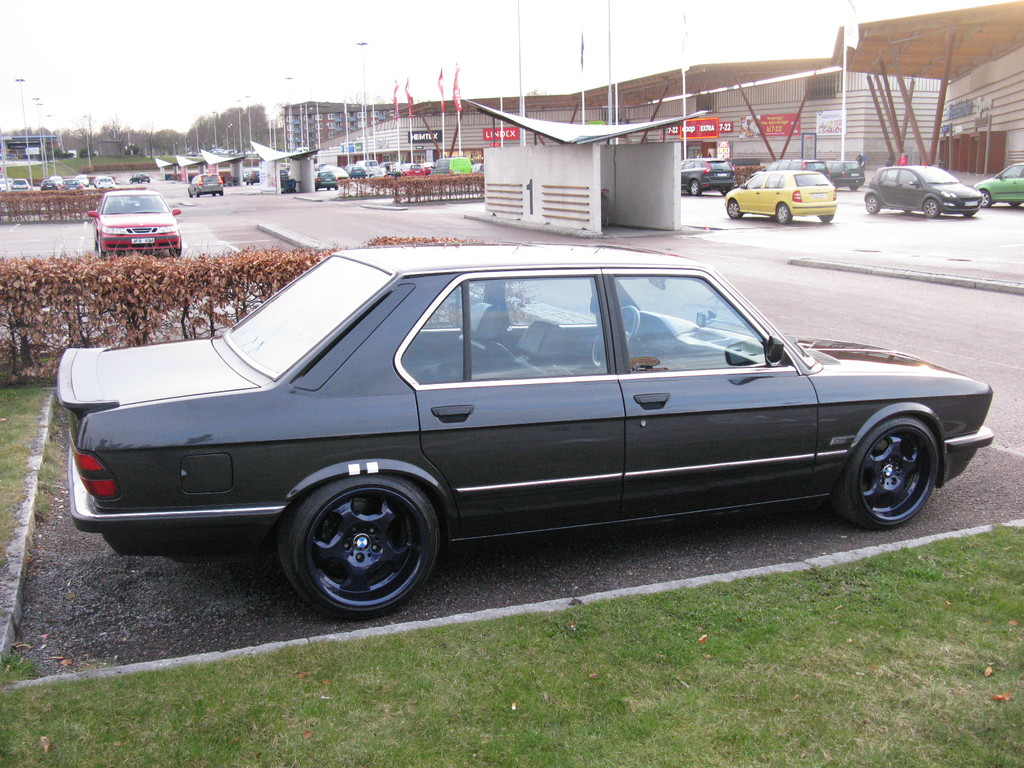Car: (63, 251, 961, 622), (679, 156, 1023, 219), (87, 187, 182, 252), (314, 161, 482, 187), (0, 172, 112, 188), (186, 176, 223, 198), (130, 173, 149, 182)
